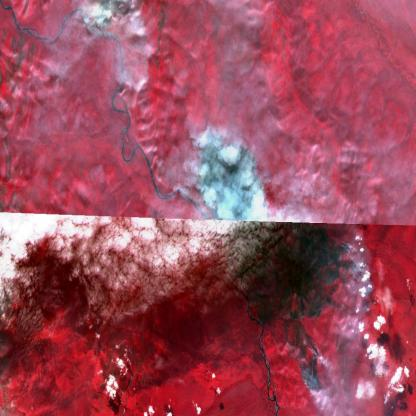fire: (296, 236, 365, 400), (196, 123, 273, 228), (85, 0, 121, 37)
